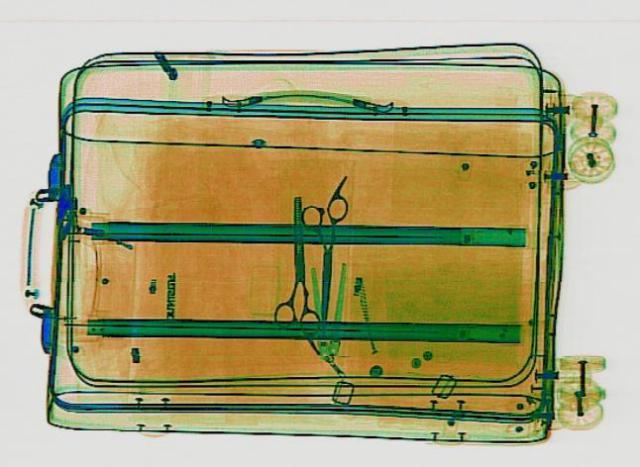Scissors: (292, 194, 348, 319), (272, 196, 320, 335)
